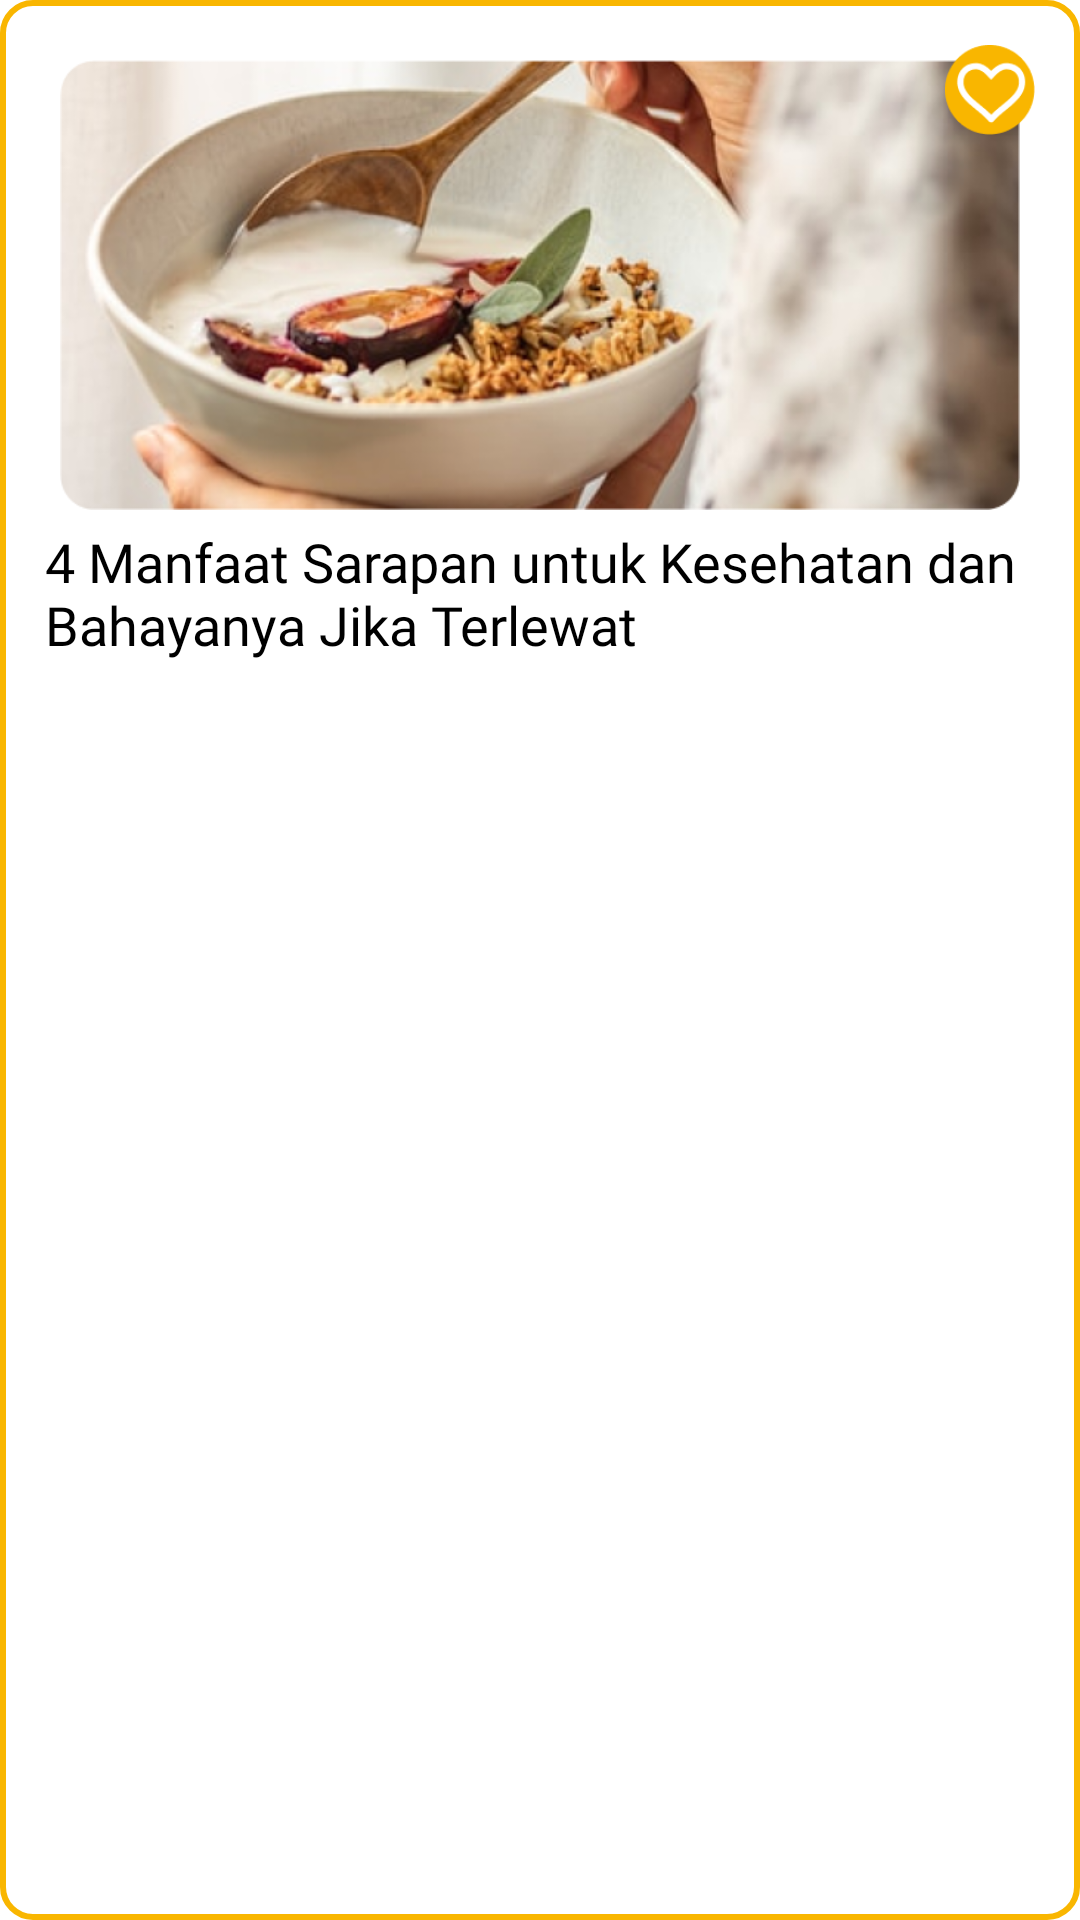

Point at icon controls on the screen. Image size 1080×1920, points as (x=x, y=y).
fav circle: (x=990, y=90)
